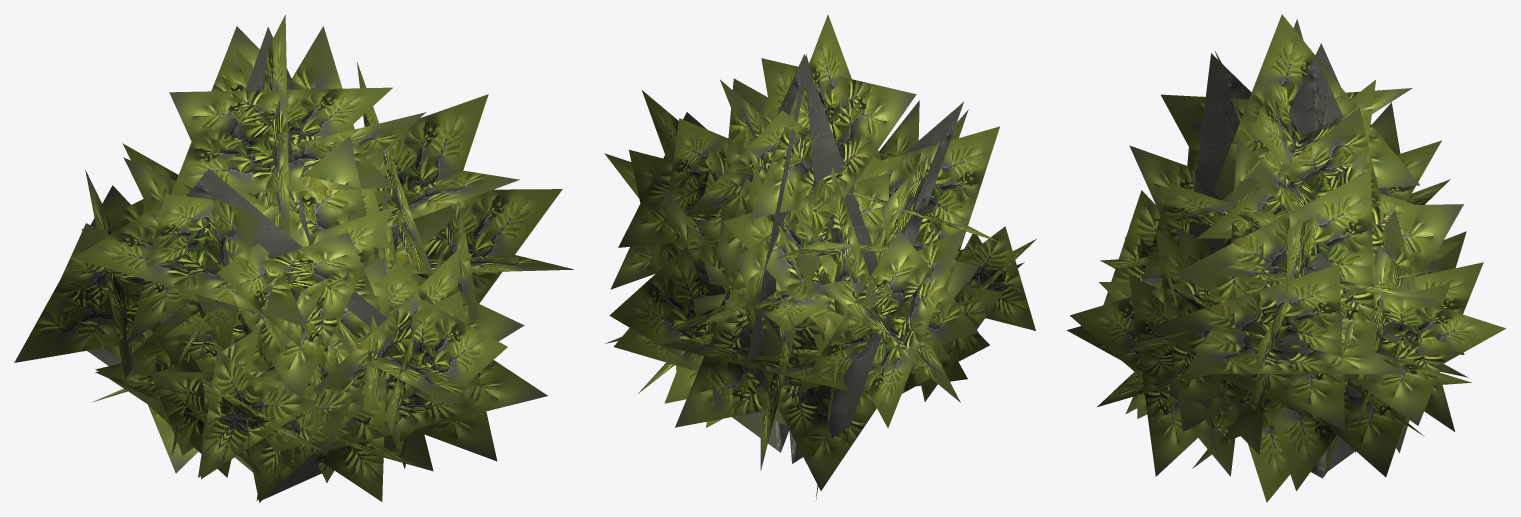
The model's file is BushMed02.FBX.
3 views of the same model, side by side, from view 1: azimuth 30°, elevation 25°; view 2: azimuth 150°, elevation 25°; view 3: azimuth 270°, elevation 25° (orthographic). The views are drawn at different scales.
Parts seen in each view (by area): view 1: Bush_LOD0; view 2: Bush_LOD0; view 3: Bush_LOD0.
Boxes of the visible parts, <box> form: Bush_LOD0: <box>14,14,574,502</box>; Bush_LOD0: <box>604,14,1036,501</box>; Bush_LOD0: <box>1066,14,1506,502</box>.
Size of what is drawn, in the model's own units: 237 by 236 by 206.
